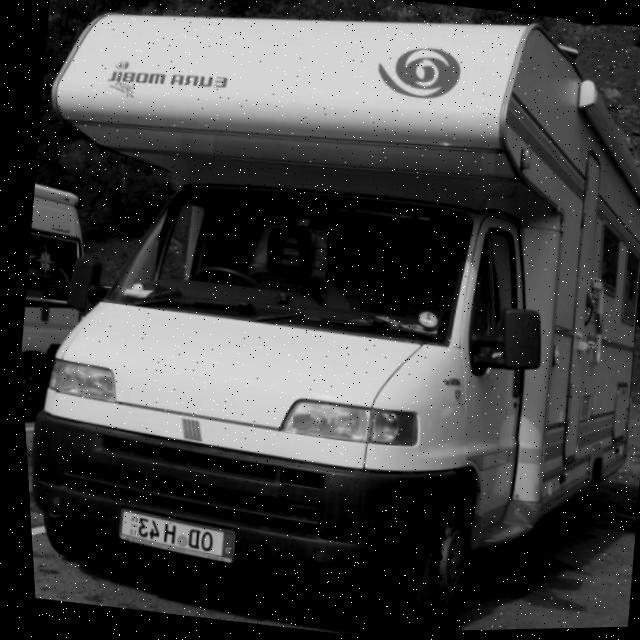license-plates: (118, 511, 233, 565)
